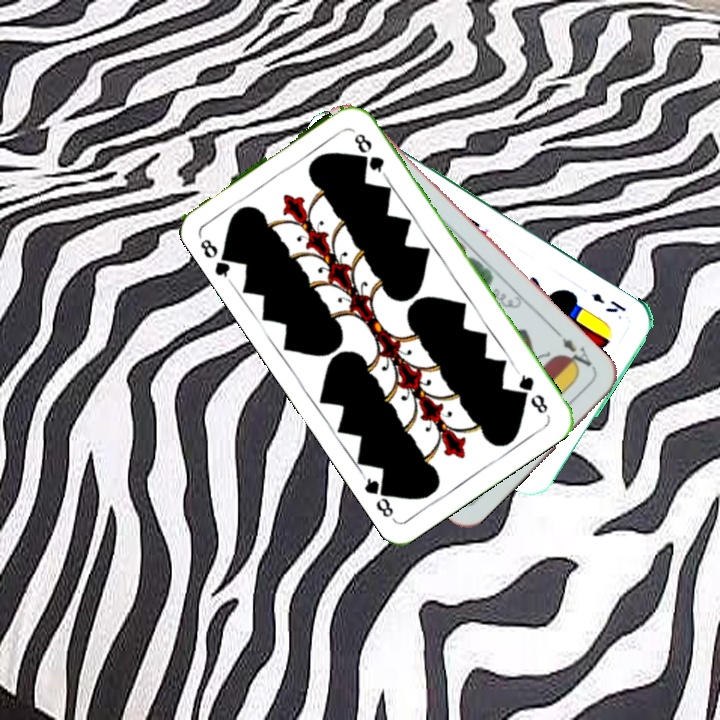EA: (552, 327, 595, 373)
EK: (587, 288, 628, 316)
G8: (196, 234, 238, 284), (512, 366, 551, 417)
